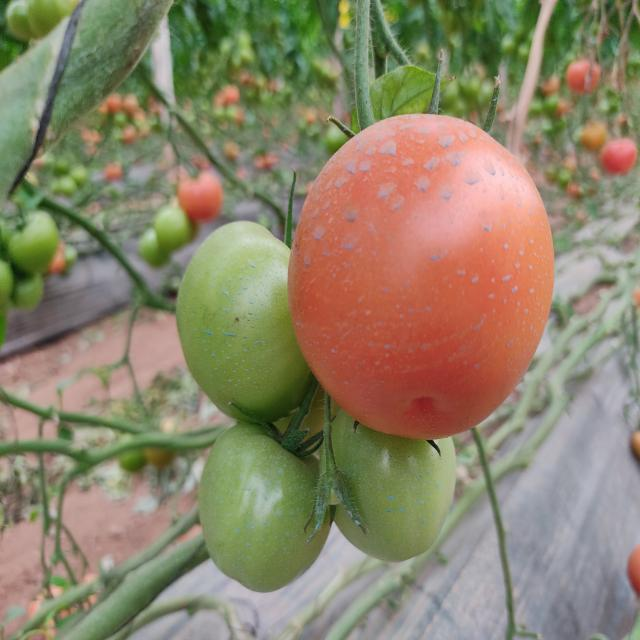Ripe Tomato: (290, 111, 557, 440)
Unripe Tomato: (176, 223, 318, 417), (199, 421, 335, 584), (333, 416, 458, 561)
